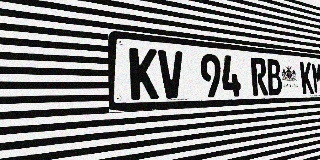4: (220, 55, 241, 97)
9: (200, 53, 222, 98)
B: (266, 59, 283, 95)
K: (129, 47, 159, 100), (300, 61, 314, 94)
M: (311, 62, 320, 94)
R: (250, 57, 268, 96)
V: (158, 50, 184, 99)
